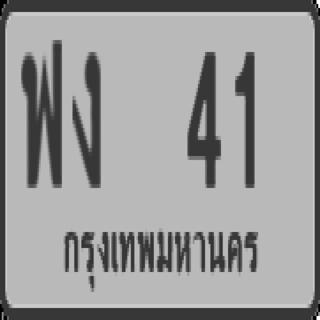A07: (70, 39, 111, 205)
A31: (19, 30, 70, 209)
N01: (229, 38, 264, 212)
N04: (183, 32, 227, 195)
P04: (54, 214, 270, 294)
